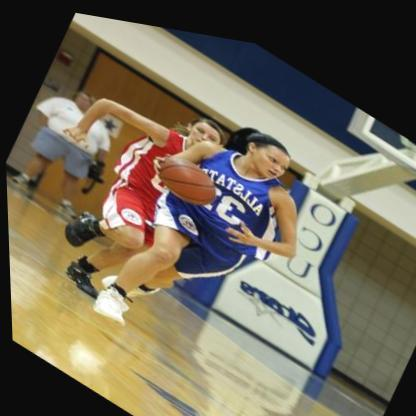basketball: (147, 139, 219, 211)
